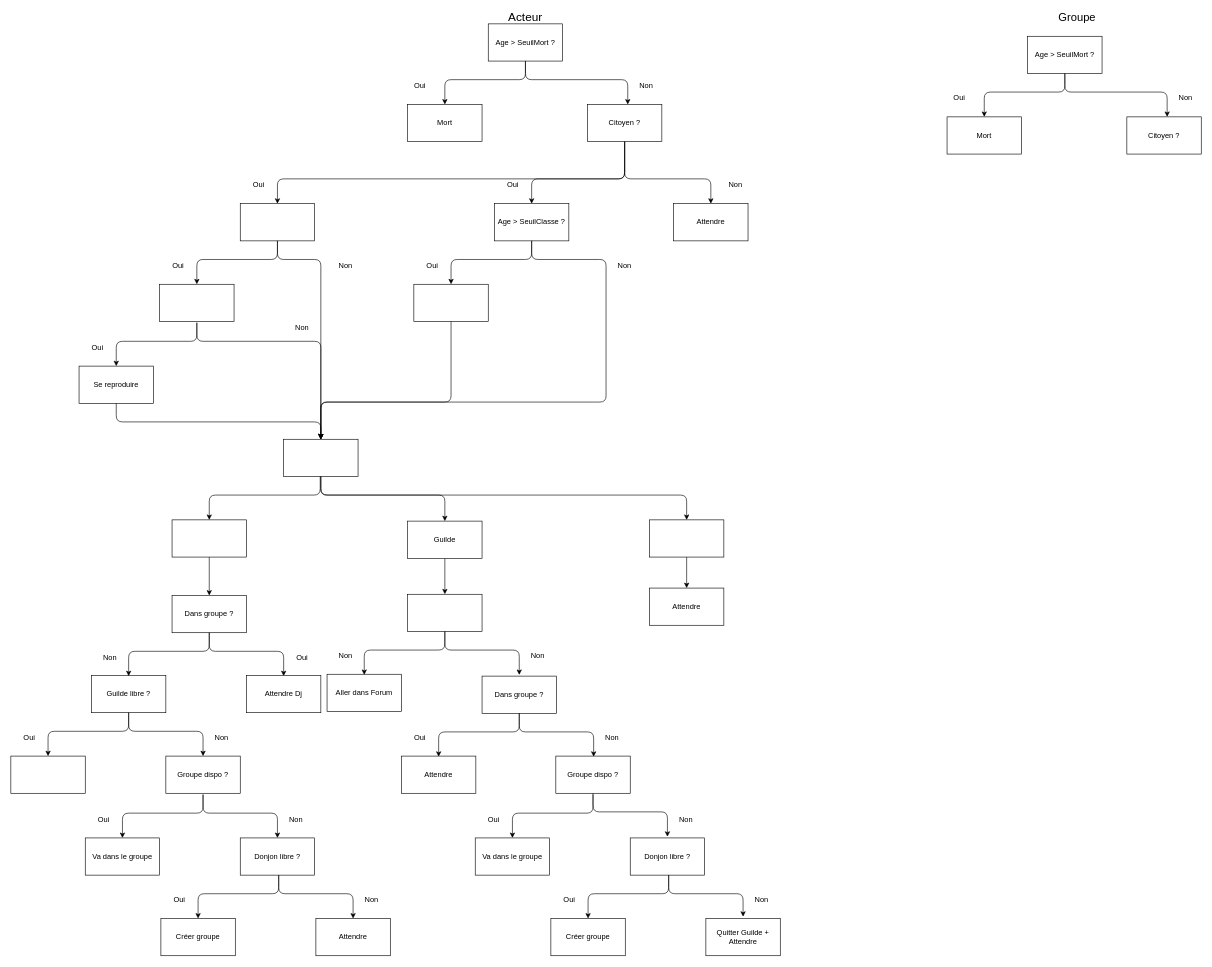
Image size: 1212x967. Some labels were removed from this diagram. Here are the shapes that lost their labels. From the top down, the centre of each, then its label:
(x=277, y=222): Age > SeuilReproduction ?
(x=196, y=302): RandomDouble > SeuilRepro ?
(x=450, y=302): Classe
(x=320, y=457): Lieu ?
(x=208, y=538): Forum
(x=686, y=538): Donjon
(x=444, y=612): Dans guilde ?
(x=47, y=774): Go guilde
